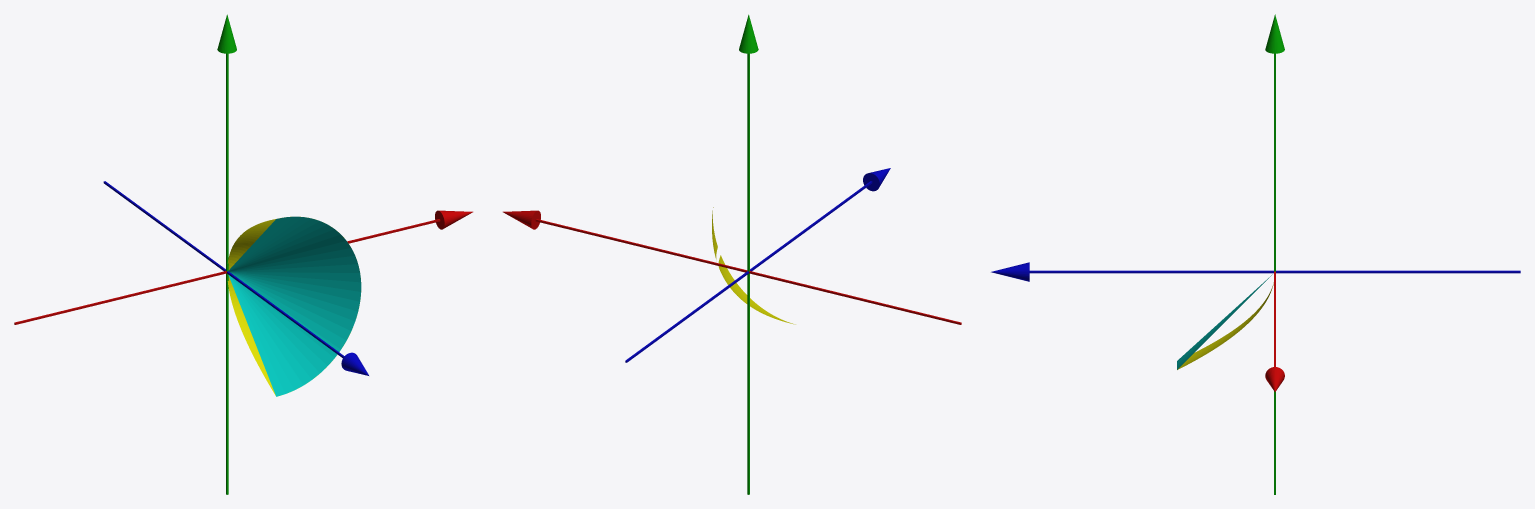
The model's file is Plano_Original_con_Superficies.glb.
3 renders of one model, left to right at view 1: azimuth 30°, elevation 25°; view 2: azimuth 150°, elevation 25°; view 3: azimuth 270°, elevation 25°, orthographic.
Parts seen in each view (by area): view 1: world; view 2: world; view 3: world.
Boxes of the visible parts, left/top/right/bottom form: world: left=14, top=14, right=472, bottom=494; world: left=503, top=14, right=961, bottom=494; world: left=991, top=14, right=1520, bottom=494.
Size of the model in its own units: 5.4 by 5.4 by 5.4.
